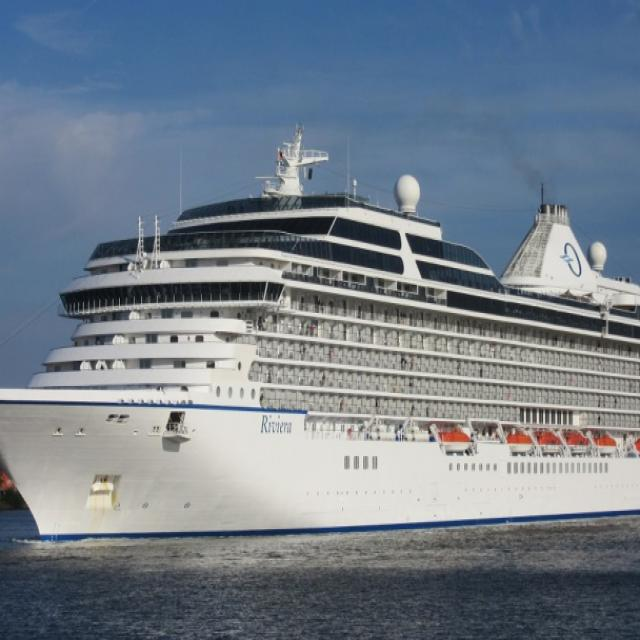cruises: (1, 118, 640, 556)
